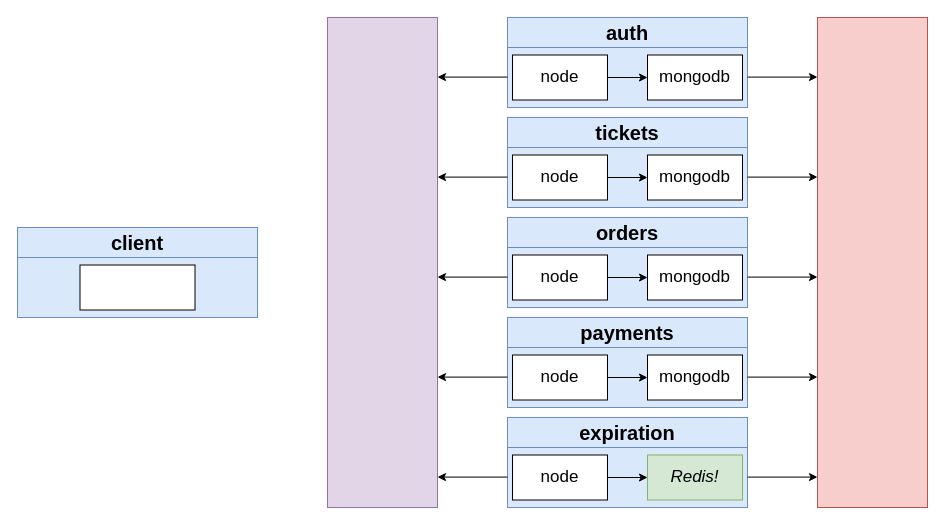
Image size: 945x525. Some labels were removed from this diagram. Each missing label, with the centre of its shape:
common: point 382,262
NATS Streaming Server: point 872,262
Next.JS: point 137,287
